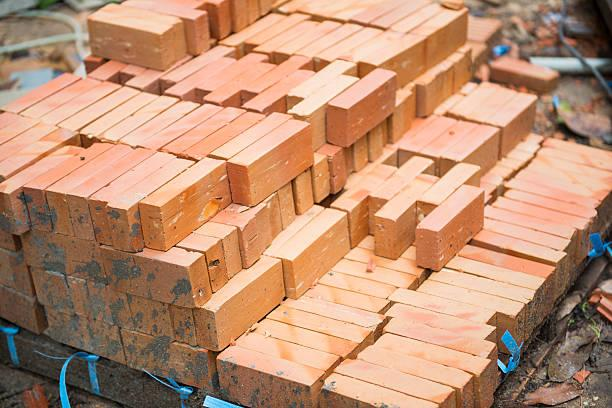Bricks: (193, 253, 288, 352), (102, 156, 197, 251), (0, 142, 87, 243), (85, 150, 175, 247), (142, 159, 236, 248), (27, 138, 119, 227), (228, 118, 316, 207), (47, 142, 132, 233), (69, 145, 151, 239), (103, 242, 212, 306), (274, 210, 355, 294), (89, 0, 189, 68), (119, 330, 221, 394), (324, 64, 403, 145), (419, 184, 488, 275), (336, 358, 455, 405), (372, 175, 437, 260), (43, 308, 129, 368), (380, 301, 500, 342), (380, 316, 502, 356), (119, 0, 211, 53), (364, 342, 472, 387), (415, 278, 526, 321), (372, 333, 494, 371), (180, 110, 267, 162), (218, 360, 313, 407), (252, 315, 359, 355), (42, 75, 125, 126), (268, 304, 373, 344), (279, 293, 386, 332), (21, 231, 103, 281), (322, 372, 439, 407), (221, 345, 323, 385), (236, 331, 340, 370), (121, 97, 203, 146), (211, 108, 294, 156), (0, 126, 78, 177), (454, 243, 558, 280), (431, 268, 534, 305), (63, 83, 139, 131), (99, 94, 180, 139), (392, 288, 498, 322), (146, 102, 224, 148), (484, 202, 578, 240), (523, 162, 611, 202), (508, 183, 596, 221), (446, 254, 540, 289), (177, 103, 244, 152), (290, 70, 359, 117), (161, 55, 240, 96), (518, 176, 603, 214), (476, 230, 564, 266), (245, 67, 313, 113), (529, 156, 611, 194), (82, 89, 156, 131), (298, 280, 395, 312), (203, 61, 278, 102), (488, 94, 538, 155), (500, 197, 594, 229), (25, 78, 101, 117), (217, 205, 263, 269), (8, 72, 83, 111), (367, 158, 432, 200), (195, 221, 241, 279), (244, 54, 312, 93), (278, 20, 347, 58), (488, 217, 565, 251), (424, 8, 466, 70), (376, 41, 427, 92), (202, 52, 267, 92), (182, 234, 230, 288), (292, 58, 353, 100), (545, 137, 611, 174), (254, 17, 322, 52), (0, 121, 58, 162), (360, 33, 424, 69), (297, 23, 362, 58), (322, 271, 403, 299), (25, 263, 72, 311), (222, 10, 284, 46), (426, 161, 479, 203), (408, 113, 462, 154), (423, 122, 476, 161), (317, 28, 379, 59), (373, 0, 438, 29), (244, 15, 310, 43), (447, 127, 498, 162), (66, 282, 109, 322), (470, 88, 518, 122), (349, 29, 407, 57), (414, 4, 460, 38), (0, 250, 35, 293), (454, 84, 502, 115), (388, 4, 442, 29), (0, 115, 44, 143), (171, 305, 198, 346), (127, 294, 151, 336), (109, 285, 132, 327), (151, 305, 172, 339)
